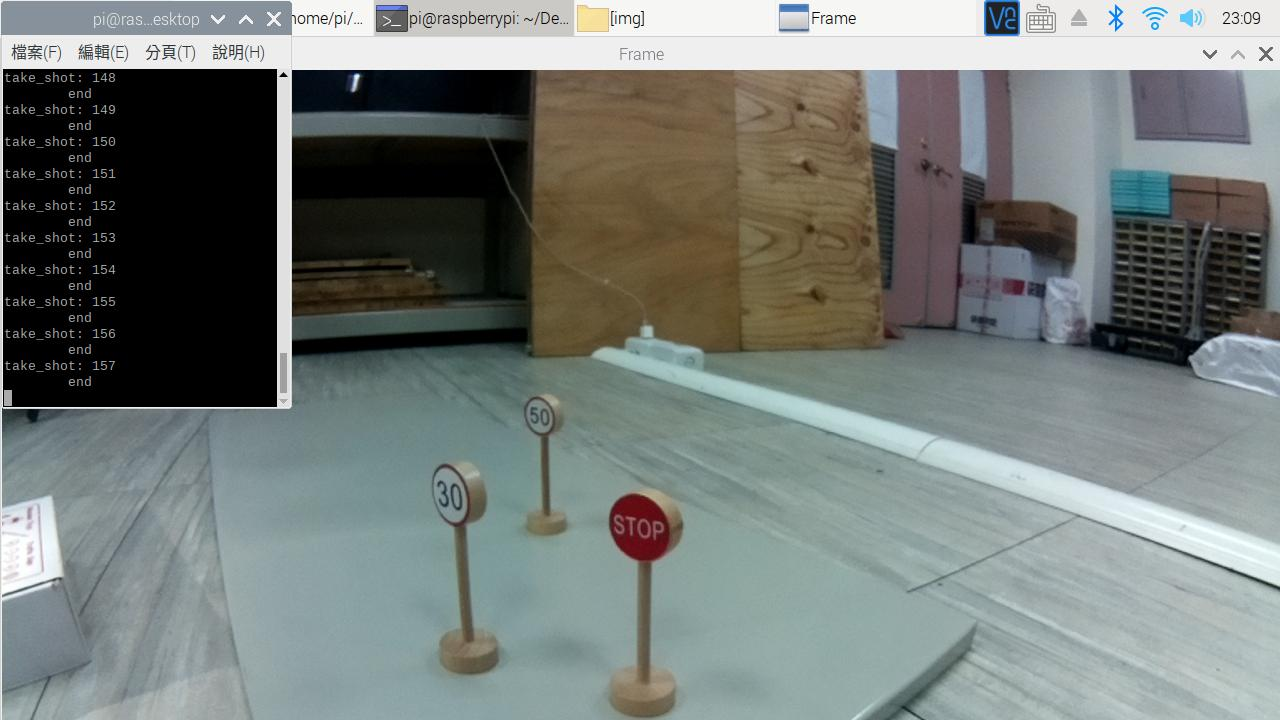Speed30: (417, 461, 494, 529)
Speed50: (516, 387, 569, 439)
Stop: (596, 486, 700, 570)
